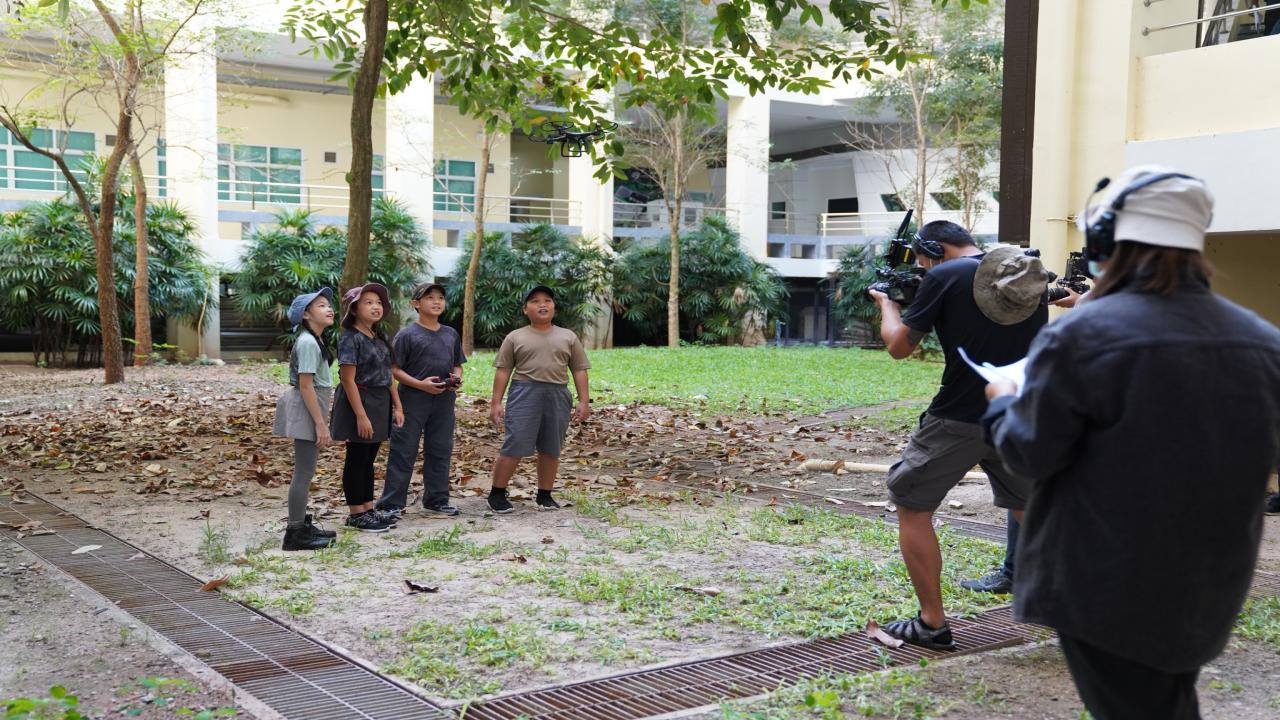Drone: (525, 111, 629, 165)
